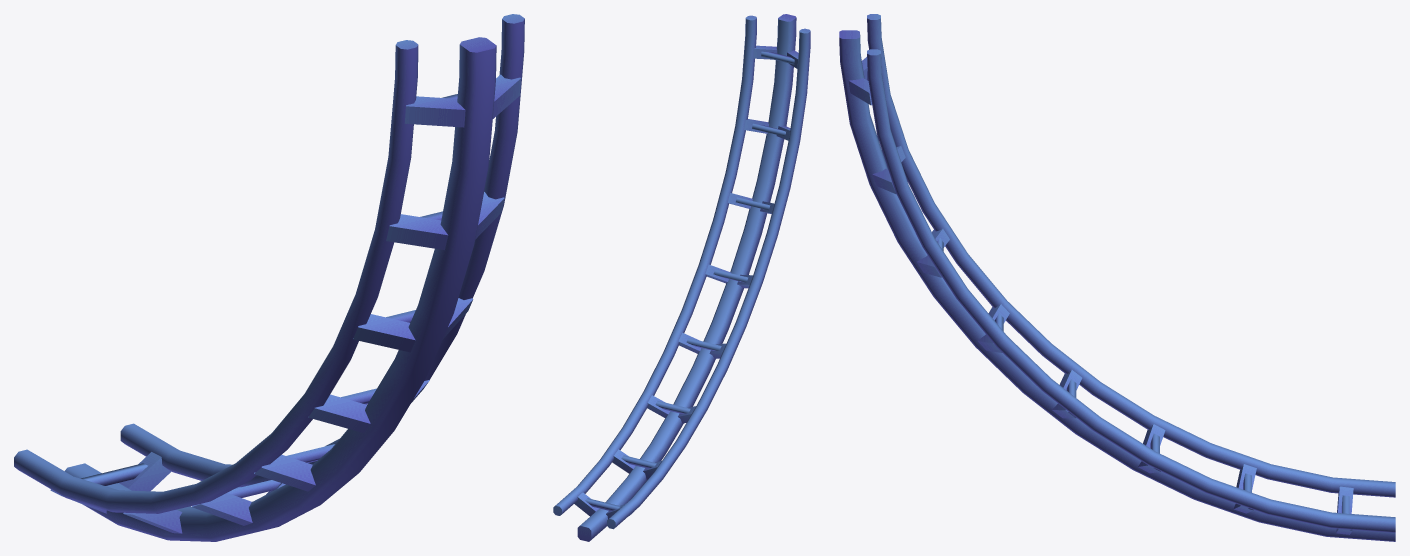
Rendered from coaster-steel-straight-bend-large.glb.
3 views of the same model, side by side, from view 1: azimuth 30°, elevation 25°; view 2: azimuth 150°, elevation 25°; view 3: azimuth 270°, elevation 25° (orthographic). The views are drawn at different scales.
Visible parts, largest first — view 1: coaster-steel-straight-bend-large; view 2: coaster-steel-straight-bend-large; view 3: coaster-steel-straight-bend-large.
Boxes of the visible parts, x1,y1,x2,y2 form: coaster-steel-straight-bend-large: (14,14,524,541); coaster-steel-straight-bend-large: (553,14,810,541); coaster-steel-straight-bend-large: (839,14,1395,541).
Size of the model in its own units: 0.7001 by 4 by 4.
Materials: 1 (1 with a texture image).
